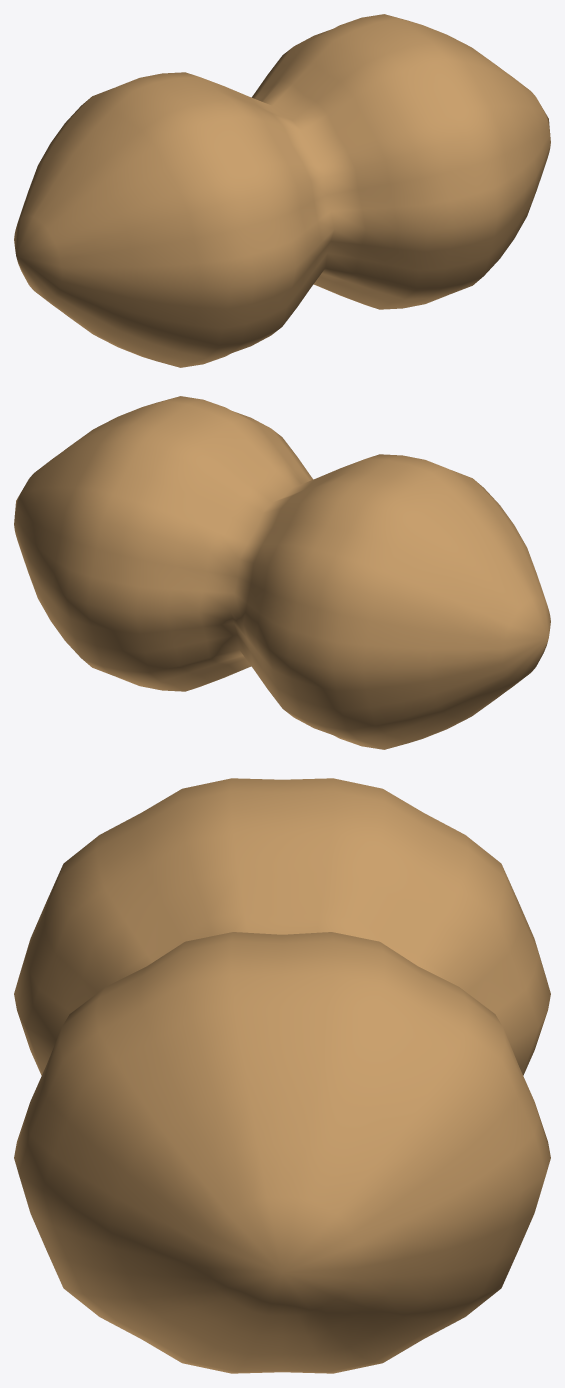
The model's file is NEW_RECOVERY_014_LOD1.fbx.
3 renders of one model, top to bottom at view 1: azimuth 30°, elevation 25°; view 2: azimuth 150°, elevation 25°; view 3: azimuth 270°, elevation 25°, orthographic. The views are drawn at different scales.
Visible parts, largest first — view 1: Whole unshelled peanut; view 2: Whole unshelled peanut; view 3: Whole unshelled peanut.
Boxes of the visible parts, bbox=[...] form: Whole unshelled peanut: bbox=[14, 14, 550, 367]; Whole unshelled peanut: bbox=[14, 396, 550, 749]; Whole unshelled peanut: bbox=[14, 778, 550, 1373].
Size of the model in its own units: 270 by 147 by 125.
